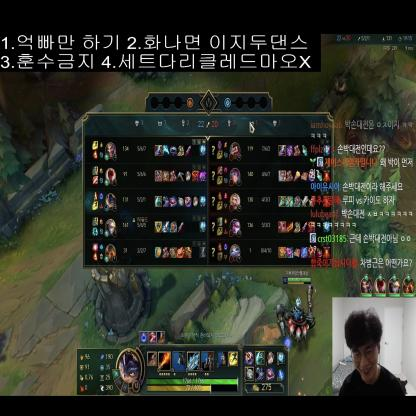streamer: (338, 307, 406, 396)
